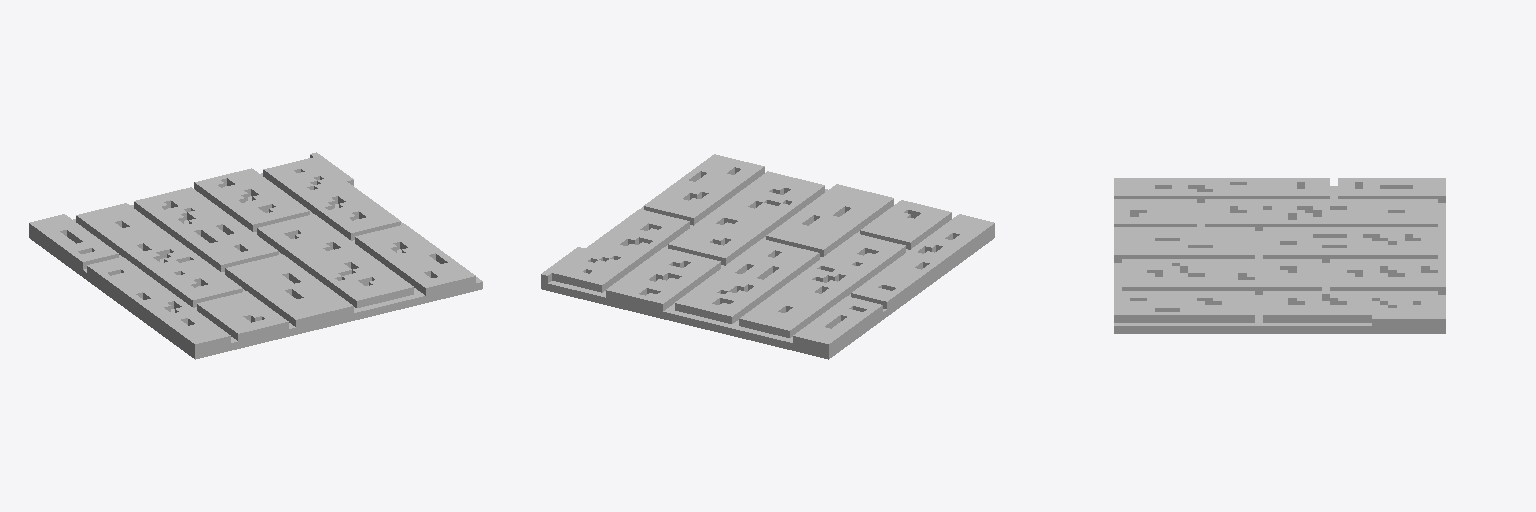
The model's file is woden floor.obj.
3 renders of one model, left to right at view 1: azimuth 30°, elevation 25°; view 2: azimuth 150°, elevation 25°; view 3: azimuth 270°, elevation 25°, orthographic.
Visible parts, largest first — view 1: object 1; view 2: object 1; view 3: object 1.
Boxes of the visible parts, x1,y1,x2,y2 form: object 1: [29, 152, 482, 359]; object 1: [541, 154, 994, 359]; object 1: [1114, 178, 1445, 333].
Size of the model in its own units: 4 by 0.2 by 4.